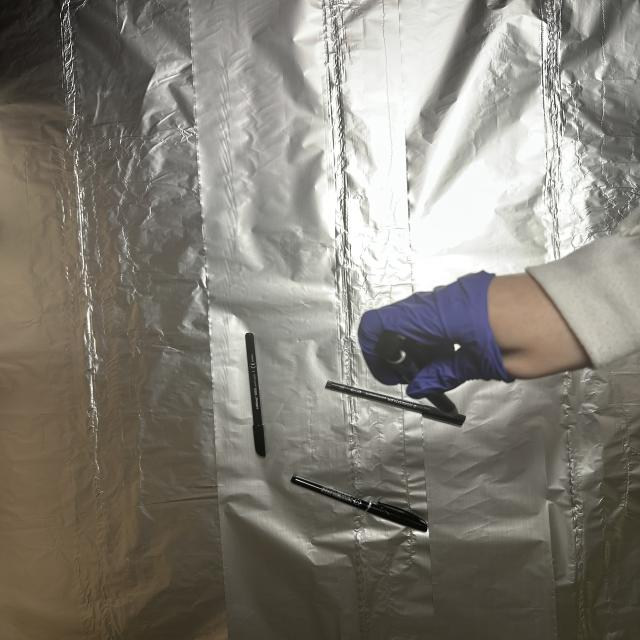glove_partial: (358, 267, 599, 398)
